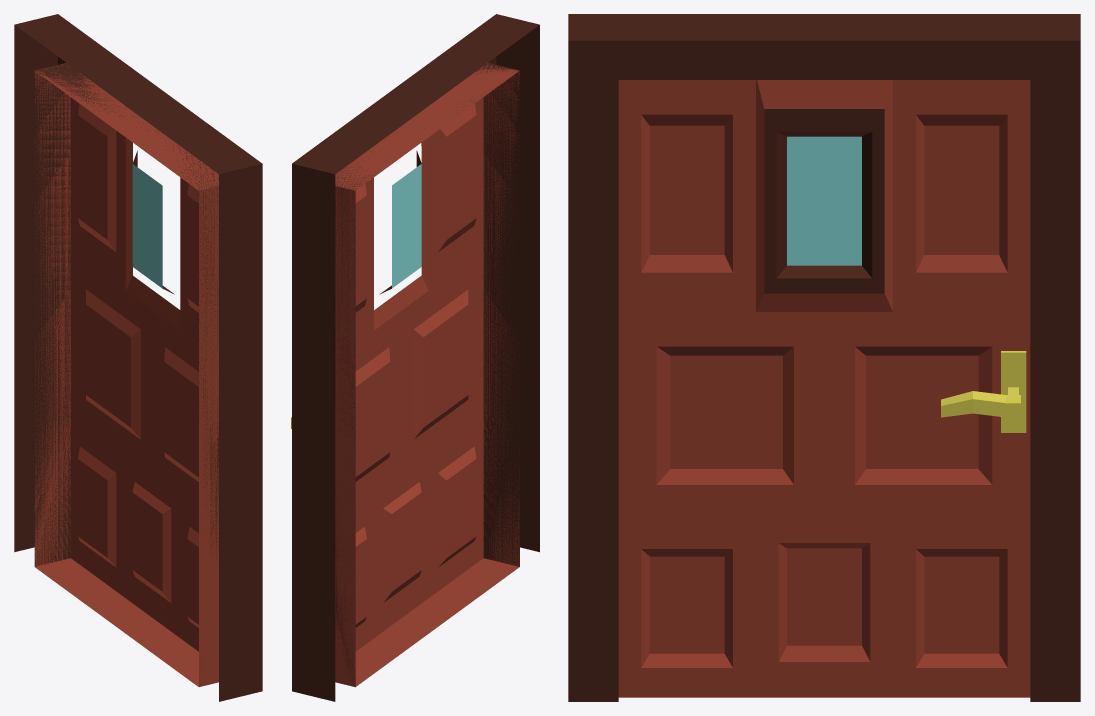
The model's file is Puerta_ventanuco_1_hoja_01.fbx.
The picture shows the model from 3 angles, left to right: view 1: azimuth 30°, elevation 25°; view 2: azimuth 150°, elevation 25°; view 3: azimuth 270°, elevation 25°; orthographic projection. The views are drawn at different scales.
Visible parts, largest first — view 1: Puerta_ventanuco_01, Puerta_basica_1_hoja.001; view 2: Puerta_ventanuco_01, Puerta_basica_1_hoja.001; view 3: Puerta_ventanuco_01, Puerta_basica_1_hoja.001.
Part boxes in pixels (left/top/right/bottom): Puerta_ventanuco_01: left=34, top=63, right=218, bottom=686; Puerta_basica_1_hoja.001: left=14, top=14, right=262, bottom=701; Puerta_ventanuco_01: left=291, top=63, right=519, bottom=686; Puerta_basica_1_hoja.001: left=292, top=14, right=539, bottom=701; Puerta_ventanuco_01: left=618, top=80, right=1030, bottom=697; Puerta_basica_1_hoja.001: left=568, top=14, right=1080, bottom=701.
Size of the model in its own units: 28.8 by 213 by 149.
